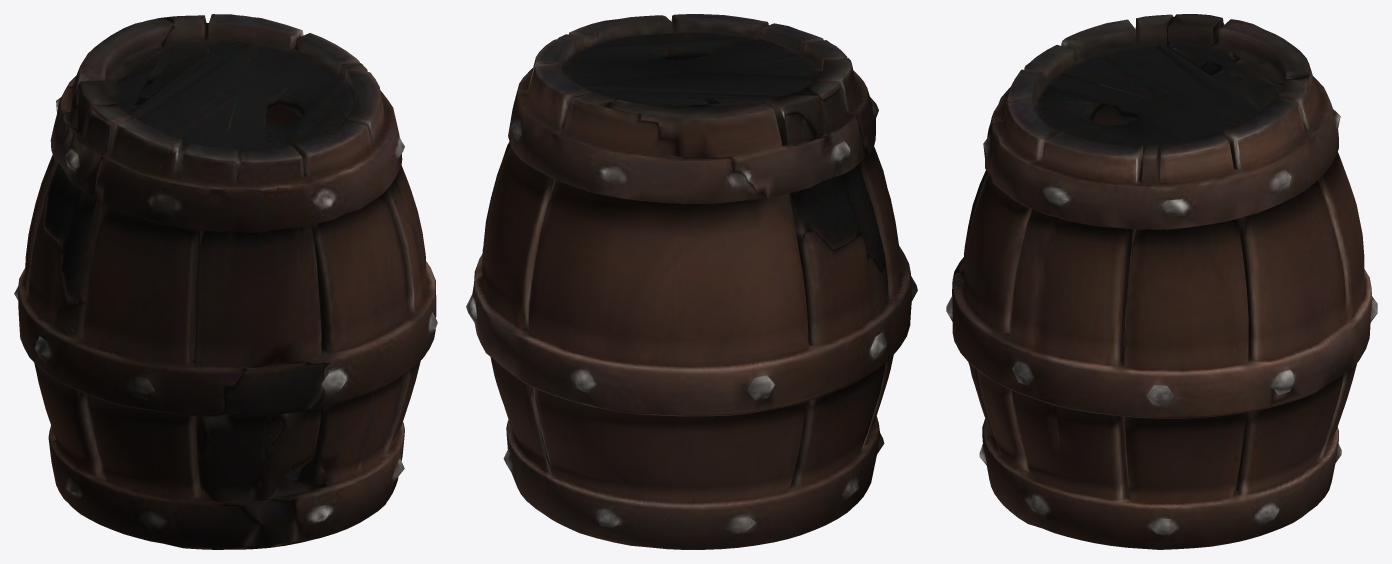
The model's file is prop_barrel.glb.
3 renders of one model, left to right at view 1: azimuth 30°, elevation 25°; view 2: azimuth 150°, elevation 25°; view 3: azimuth 270°, elevation 25°, orthographic. The views are drawn at different scales.
Visible parts, largest first — view 1: tripo_node_457394bf-d5d0-410e-8733-3eb510da46ac; view 2: tripo_node_457394bf-d5d0-410e-8733-3eb510da46ac; view 3: tripo_node_457394bf-d5d0-410e-8733-3eb510da46ac.
Part boxes in pixels (left/top/right/bottom): tripo_node_457394bf-d5d0-410e-8733-3eb510da46ac: left=14, top=14, right=437, bottom=549; tripo_node_457394bf-d5d0-410e-8733-3eb510da46ac: left=466, top=14, right=917, bottom=549; tripo_node_457394bf-d5d0-410e-8733-3eb510da46ac: left=946, top=14, right=1377, bottom=549.
Size of the model in its own units: 0.9609 by 1 by 0.9609.
Materials: 1 (1 with a texture image).
